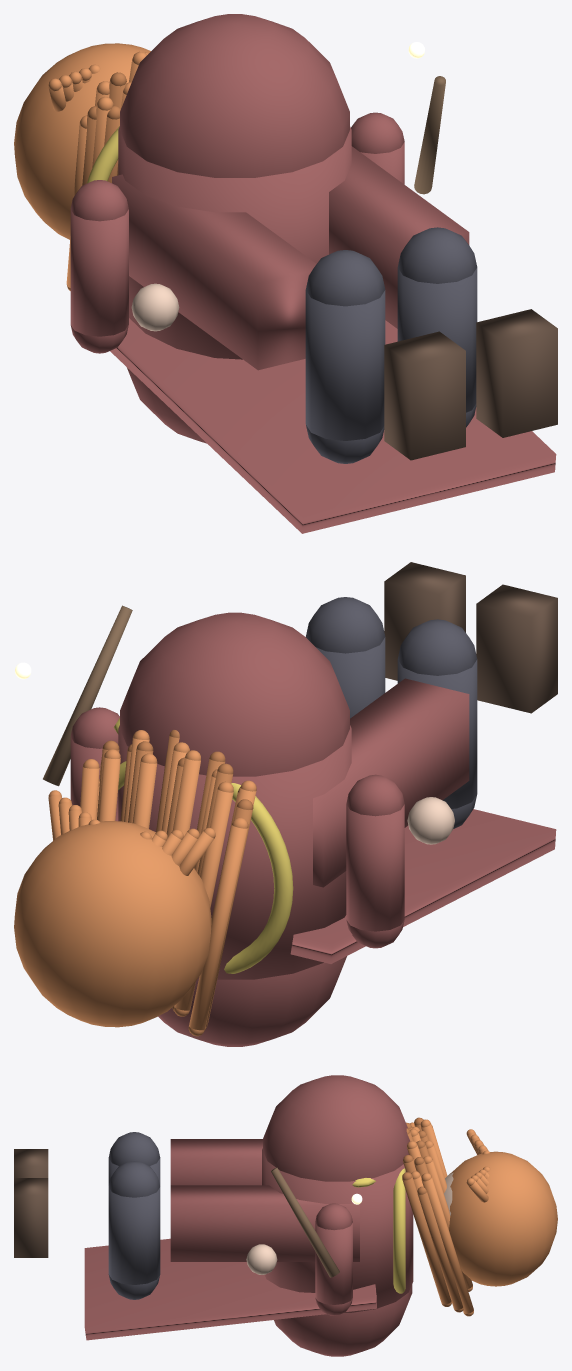
The model's file is ginny.glb.
The picture shows the model from 3 angles, top to bottom: view 1: azimuth 30°, elevation 25°; view 2: azimuth 150°, elevation 25°; view 3: azimuth 270°, elevation 25°; orthographic projection. The views are drawn at different scales.
Visible parts, largest first — view 1: cloak, torso_top, robe_panel_l, torso_body, thigh_body, crown, boot, boot.001, robe_panel_r, upperL_body, thigh_body.001, thigh_top.001 (+11 smaller); view 2: crown, torso_top, torso_body, robe_panel_l, cloak, boot, torso_bot, upperL_body, boot.001, trim, thigh_top, thigh_top.001 (+17 smaller); view 3: cloak, torso_top, crown, robe_panel_r, torso_body, thigh_body.001, torso_bot, robe_panel_l, boot.001, upperR_body, trim, thigh_top.001 (+10 smaller).
Boxes of the visible parts, left/top/right/bottom form: cloak: left=110, top=318, right=556, bottom=533; torso_top: left=120, top=14, right=349, bottom=177; robe_panel_l: left=112, top=174, right=316, bottom=370; torso_body: left=118, top=126, right=351, bottom=359; thigh_body: left=305, top=290, right=385, bottom=440; crown: left=14, top=43, right=150, bottom=239; boot: left=384, top=331, right=465, bottom=460; boot.001: left=476, top=309, right=557, bottom=437; robe_panel_r: left=329, top=146, right=469, bottom=328; upperL_body: left=70, top=209, right=128, bottom=336; thigh_body.001: left=397, top=267, right=477, bottom=412; thigh_top.001: left=398, top=227, right=477, bottom=283; crown: left=14, top=821, right=211, bottom=1027; torso_top: left=120, top=612, right=349, bottom=776; torso_body: left=118, top=725, right=351, bottom=979; robe_panel_l: left=313, top=678, right=469, bottom=887; cloak: left=290, top=809, right=556, bottom=963; boot: left=476, top=584, right=557, bottom=713; torso_bot: left=158, top=956, right=346, bottom=1046; upperL_body: left=346, top=804, right=404, bottom=931; boot.001: left=384, top=562, right=465, bottom=680; trim: left=118, top=761, right=293, bottom=973; thigh_top: left=398, top=619, right=477, bottom=675; thigh_top.001: left=306, top=597, right=385, bottom=653; cloak: left=84, top=1238, right=376, bottom=1340; torso_top: left=263, top=1075, right=409, bottom=1181; crown: left=449, top=1151, right=557, bottom=1286; robe_panel_r: left=170, top=1185, right=359, bottom=1261; torso_body: left=262, top=1148, right=413, bottom=1312; thigh_body.001: left=108, top=1187, right=160, bottom=1284; torso_bot: left=274, top=1284, right=412, bottom=1356; robe_panel_l: left=170, top=1139, right=262, bottom=1185; boot.001: left=14, top=1178, right=48, bottom=1257; upperR_body: left=315, top=1223, right=352, bottom=1304; trim: left=393, top=1168, right=405, bottom=1293; thigh_top.001: left=108, top=1161, right=160, bottom=1197.
Size of the model in its own units: 0.7987 by 0.86 by 1.58.
